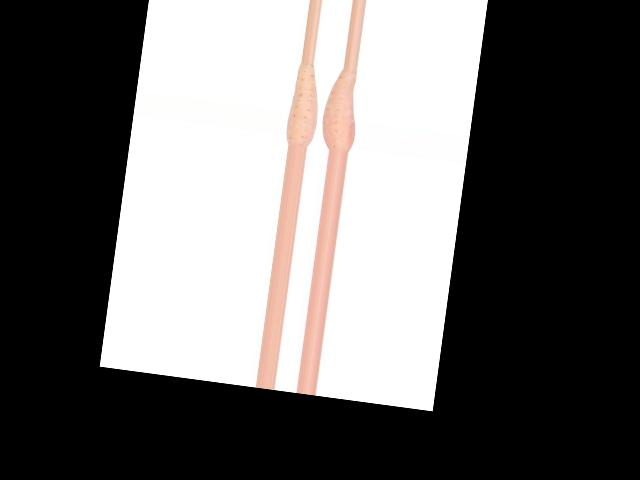sweet_potato: (285, 64, 324, 148)
